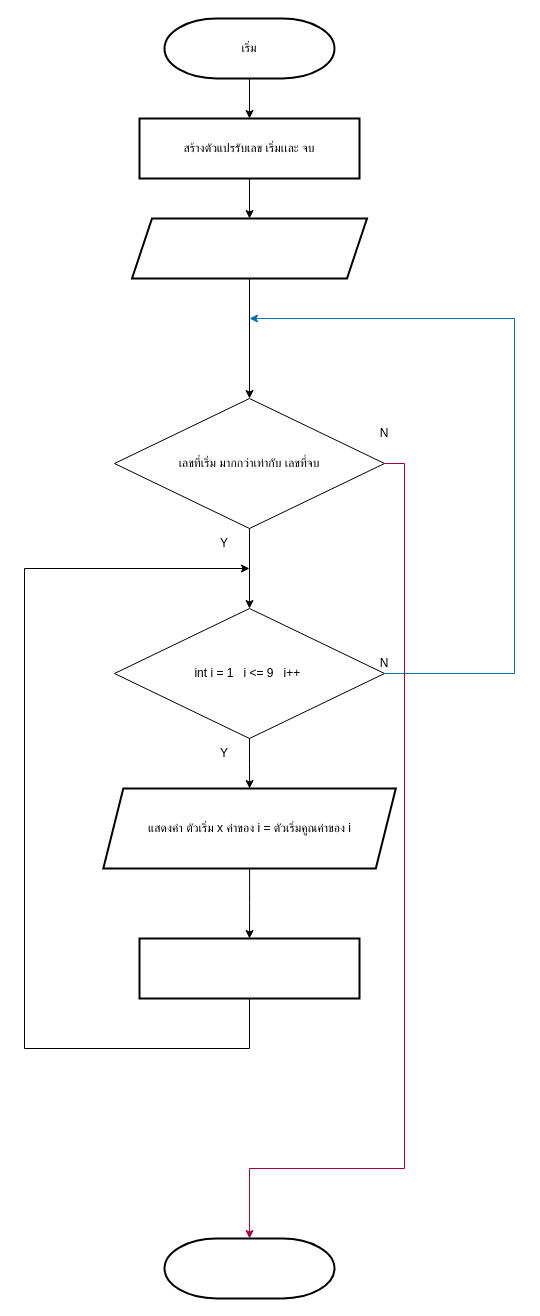
This 540x1316 diagram has some shape labels left out. Here are the shapes that lost their labels. From the top down, the centre of each, then its label:
the point at 249,248: รับตัวเลข 2 เลข เลขเริ่มและ จบ
the point at 249,968: i++
the point at 249,1268: จบ
